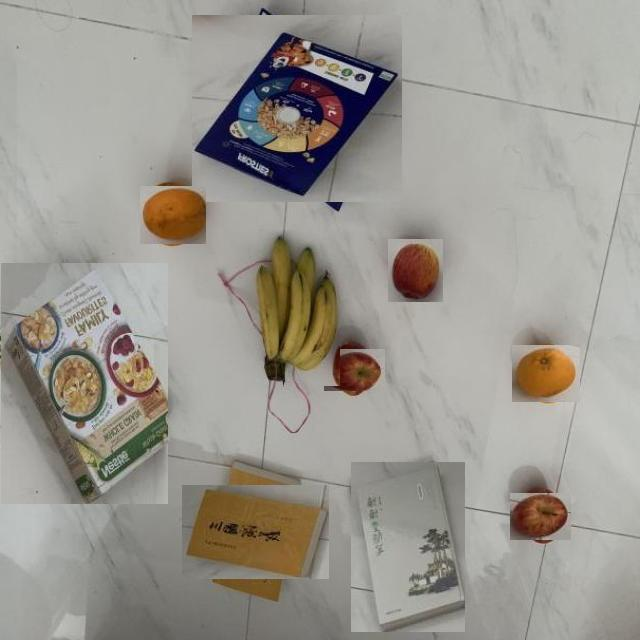Apple: (388, 239, 443, 302), (511, 492, 571, 540), (324, 348, 385, 391)
Banana: (255, 231, 340, 386)
Book: (351, 462, 465, 632), (181, 485, 329, 579)
Cerealbox: (0, 263, 168, 504), (191, 15, 402, 202)
Orange: (139, 186, 206, 244), (513, 345, 580, 402)
